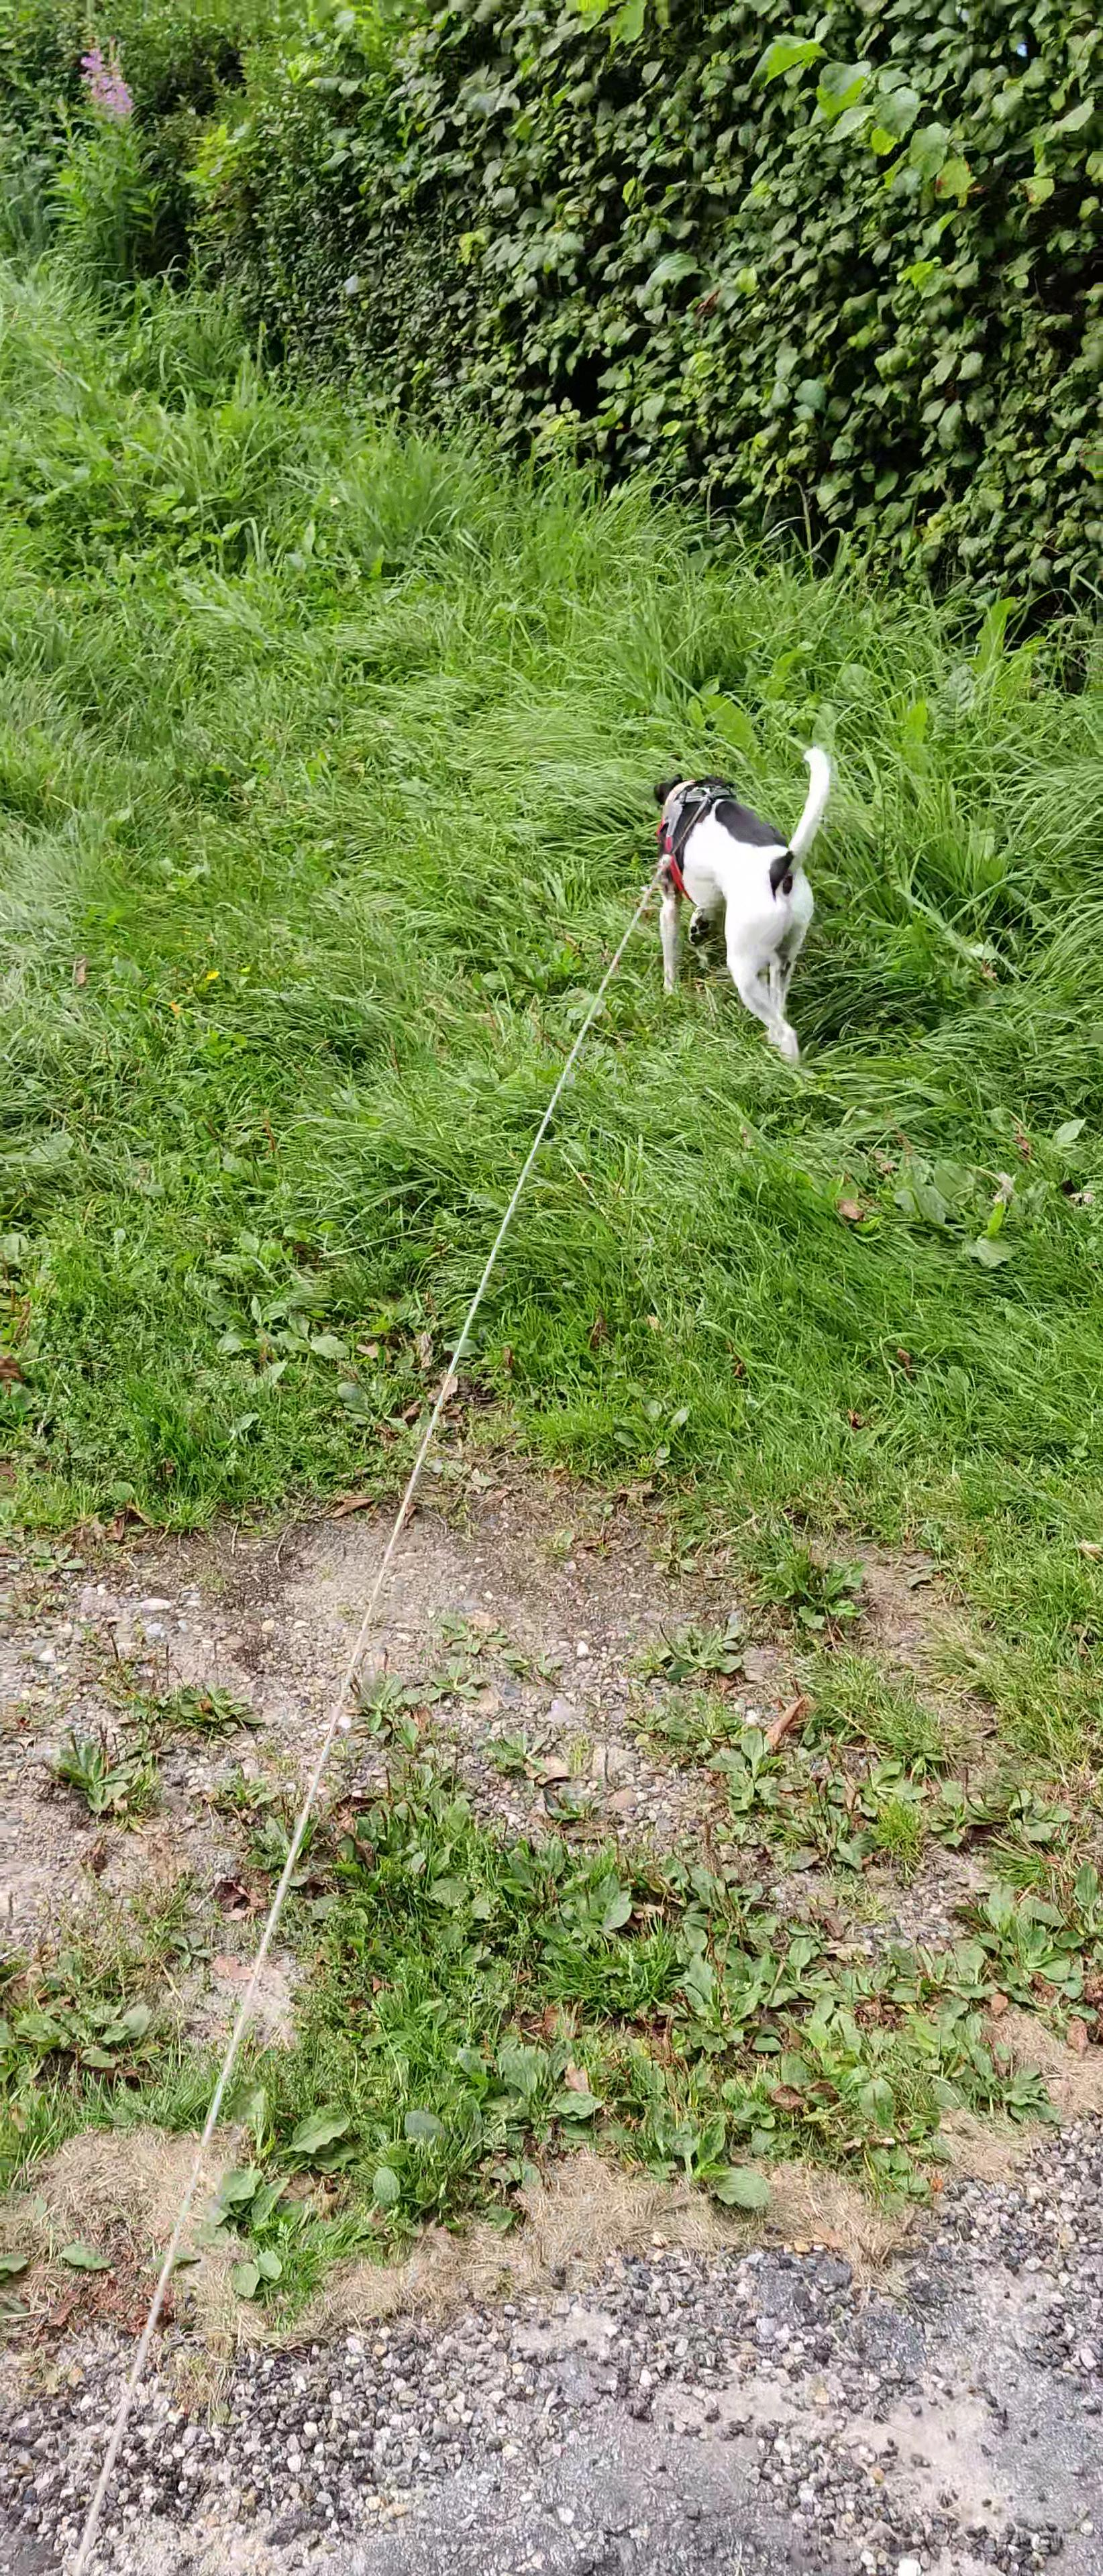Dog: (628, 715, 851, 1097)
